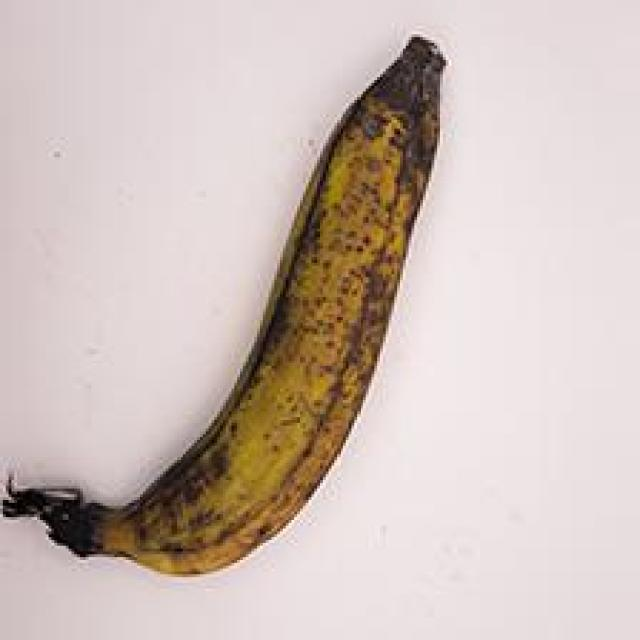Overripe: (3, 26, 498, 597)
